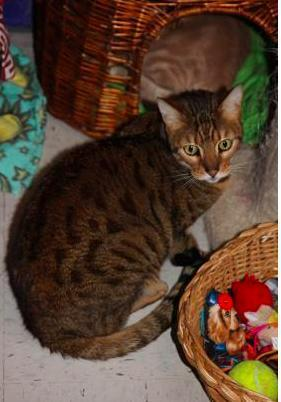bengal: (144, 79, 250, 186)
